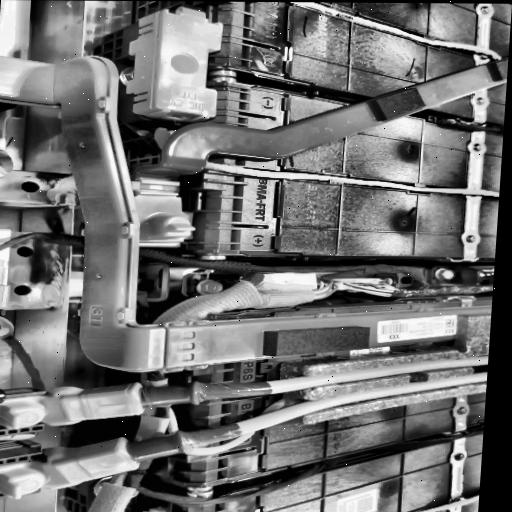busbar: (0, 53, 492, 374), (131, 55, 509, 194)
high_volt_cable: (0, 373, 487, 502), (0, 355, 489, 434), (279, 2, 503, 59), (201, 160, 500, 201)
low_volt_cable: (0, 206, 446, 287)
